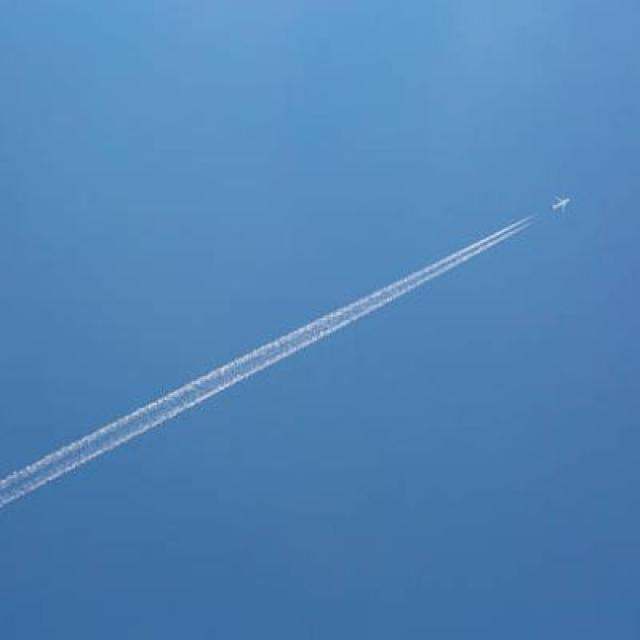Ct: (7, 106, 582, 569)
